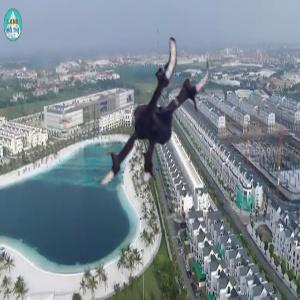drone: (63, 32, 223, 192)
